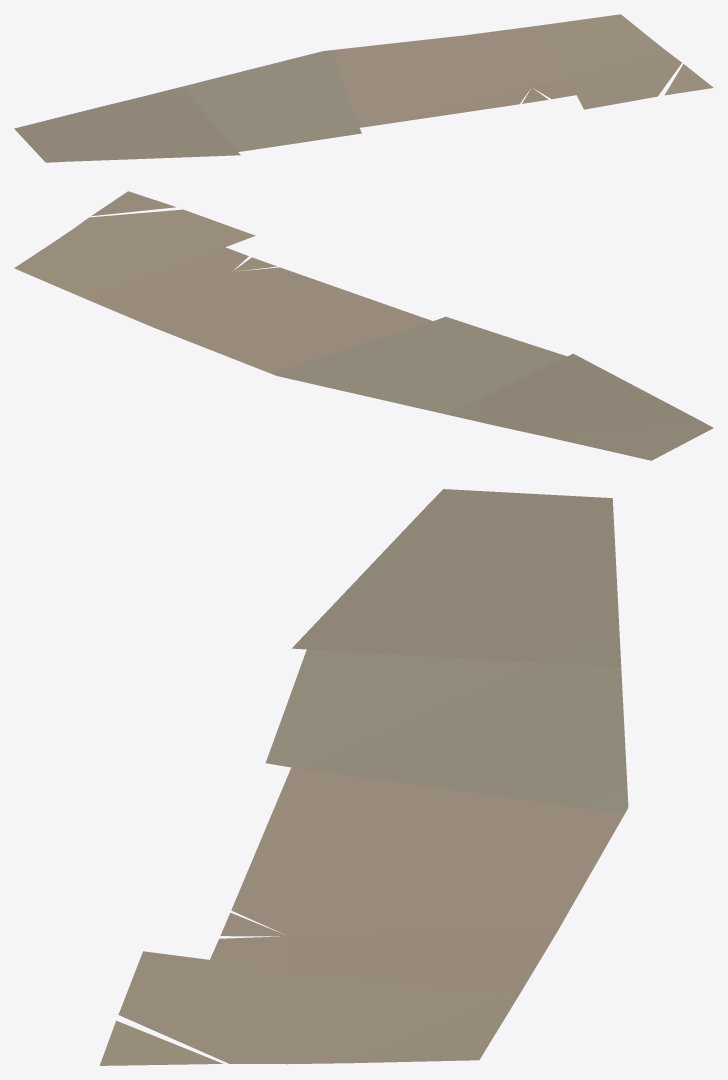
Rendered from farm_16_23_soil.glb.
The picture shows the model from 3 angles, top to bottom: view 1: azimuth 30°, elevation 25°; view 2: azimuth 150°, elevation 25°; view 3: azimuth 270°, elevation 25°; orthographic projection. The views are drawn at different scales.
Visible parts, largest first — view 1: geometry_0; view 2: geometry_0; view 3: geometry_0.
Part boxes in pixels (x1,y1,x2,y2): geometry_0: (14,14,713,162); geometry_0: (14,191,713,460); geometry_0: (99,489,628,1065).
Bounding box in the file's own units: 286 × 2.81 × 112.
